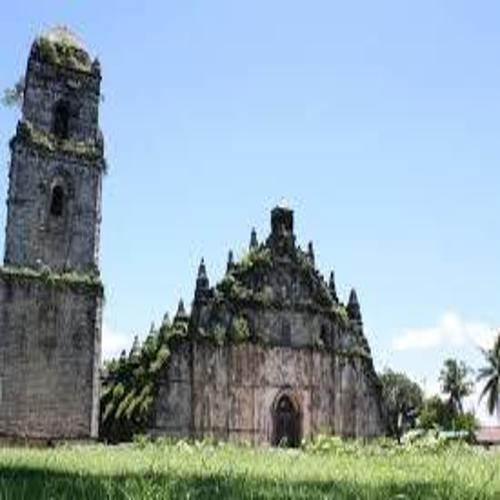Paoay Church: (6, 19, 400, 452)
